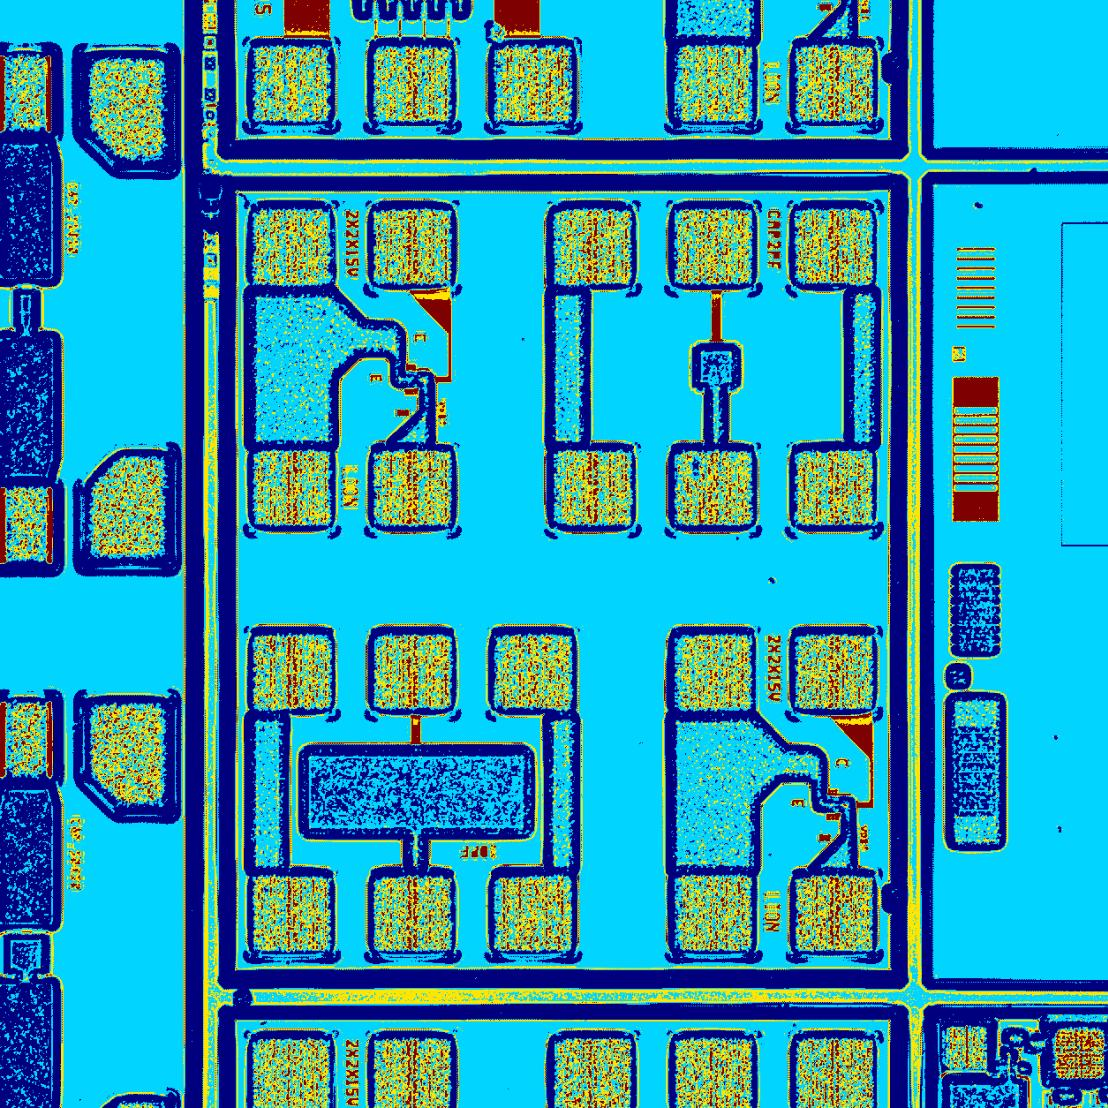Die: (216, 174, 909, 988)
Pad 3: (253, 876, 331, 951), (253, 635, 331, 710), (253, 210, 331, 285), (373, 876, 451, 951), (795, 876, 872, 951), (675, 635, 751, 710), (794, 208, 871, 283), (495, 876, 571, 951), (373, 449, 451, 524), (674, 209, 751, 283), (373, 209, 451, 283), (495, 635, 571, 709), (678, 875, 752, 951), (674, 451, 751, 524), (255, 449, 330, 524), (555, 451, 631, 524), (555, 211, 631, 284), (373, 636, 451, 708), (797, 451, 872, 524), (797, 636, 872, 708)
